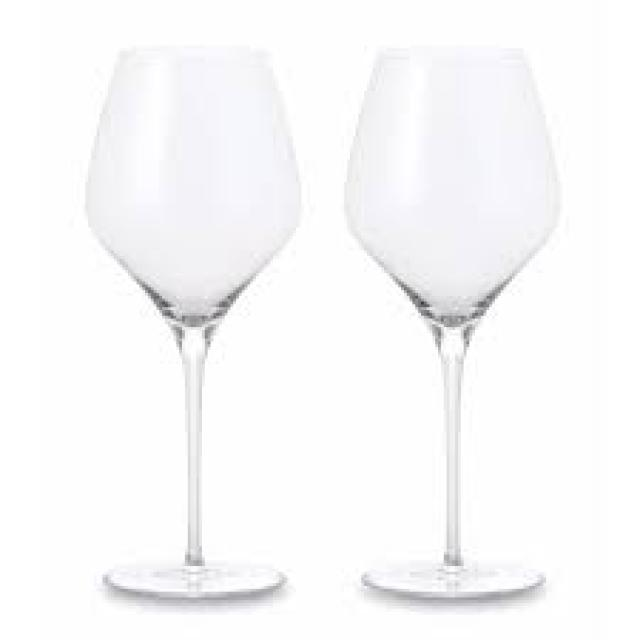glass: (342, 46, 558, 595), (82, 43, 296, 595)
